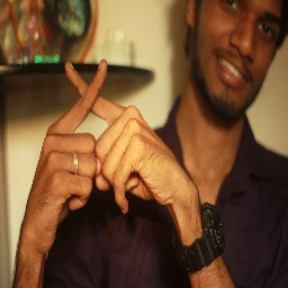X: (43, 50, 136, 138)
